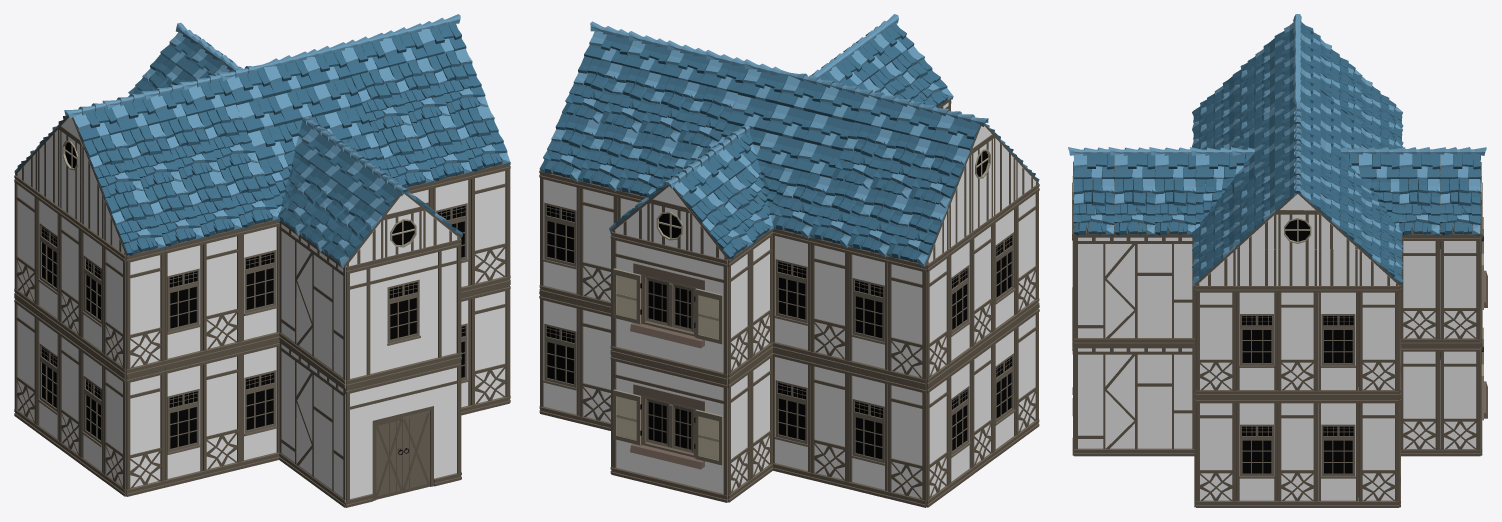
File: House_18_Full.fbx
3 renders of one model, left to right at view 1: azimuth 30°, elevation 25°; view 2: azimuth 150°, elevation 25°; view 3: azimuth 270°, elevation 25°, orthographic. The views are drawn at different scales.
Visible parts, largest first — view 1: WINDOW_03_2, DOOR_03_1, WALL_05_2, WALL_05_3, WALL_04_5, WALL_04_4, WALL_04_6, WALL_04_9, WALL_04_3, WALL_04_10, WINDOW_04_5, WINDOW_04_6 (+62 smaller); view 2: WINDOW_06_1.001, WINDOW_06_1, WALL_04_17, WALL_04_18, WINDOW_04_15, WALL_04_19, WALL_04_20, WINDOW_04_19, WINDOW_04_16, WINDOW_04_20, WINDOW_04_14, WINDOW_04_13 (+64 smaller); view 3: WALL_05_5, WALL_05_4, WINDOW_04_21, WALL_04_25, WALL_04_26, WINDOW_04_24, WALL_04_23, WALL_04_24, WINDOW_04_22, WALL_04_34, WALL_04_36, WINDOW_04_23 (+55 smaller).
Part boxes in pixels (x1,y1,x2,y2): WINDOW_03_2: [345, 239, 461, 387]; DOOR_03_1: [345, 360, 461, 507]; WALL_05_2: [279, 340, 345, 507]; WALL_05_3: [279, 221, 345, 387]; WALL_04_5: [126, 248, 165, 376]; WALL_04_4: [126, 367, 165, 496]; WALL_04_6: [203, 229, 241, 357]; WALL_04_9: [471, 164, 509, 292]; WALL_04_3: [203, 349, 241, 477]; WALL_04_10: [471, 283, 509, 412]; WINDOW_04_5: [165, 239, 203, 367]; WINDOW_04_6: [241, 220, 279, 348]; WINDOW_06_1.001: [611, 232, 727, 381]; WINDOW_06_1: [611, 353, 727, 502]; WALL_04_17: [810, 237, 849, 367]; WALL_04_18: [810, 358, 849, 488]; WINDOW_04_15: [848, 246, 887, 377]; WALL_04_19: [887, 256, 926, 386]; WALL_04_20: [887, 377, 926, 507]; WINDOW_04_19: [540, 171, 579, 301]; WINDOW_04_16: [848, 368, 887, 498]; WINDOW_04_20: [540, 293, 579, 423]; WINDOW_04_14: [772, 229, 810, 358]; WINDOW_04_13: [772, 349, 810, 479]; WALL_05_5: [1074, 345, 1194, 456]; WALL_05_4: [1074, 234, 1194, 345]; WINDOW_04_21: [1236, 286, 1277, 397]; WALL_04_25: [1358, 286, 1399, 397]; WALL_04_26: [1358, 397, 1399, 507]; WINDOW_04_24: [1236, 397, 1277, 507]; WALL_04_23: [1196, 286, 1236, 397]; WALL_04_24: [1277, 286, 1317, 397]; WINDOW_04_22: [1318, 286, 1358, 397]; WALL_04_34: [1440, 345, 1480, 456]; WALL_04_36: [1440, 234, 1480, 345]; WINDOW_04_23: [1318, 397, 1358, 507].
Bounding box in the file's own units: 1029 × 865 × 1032.
